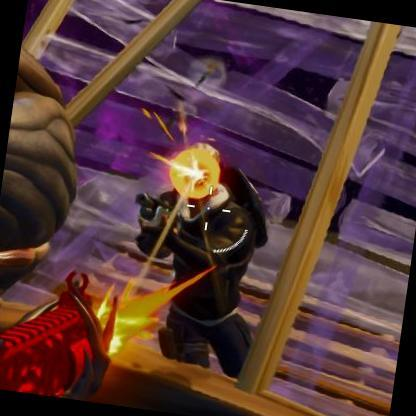person: (143, 156, 274, 374)
